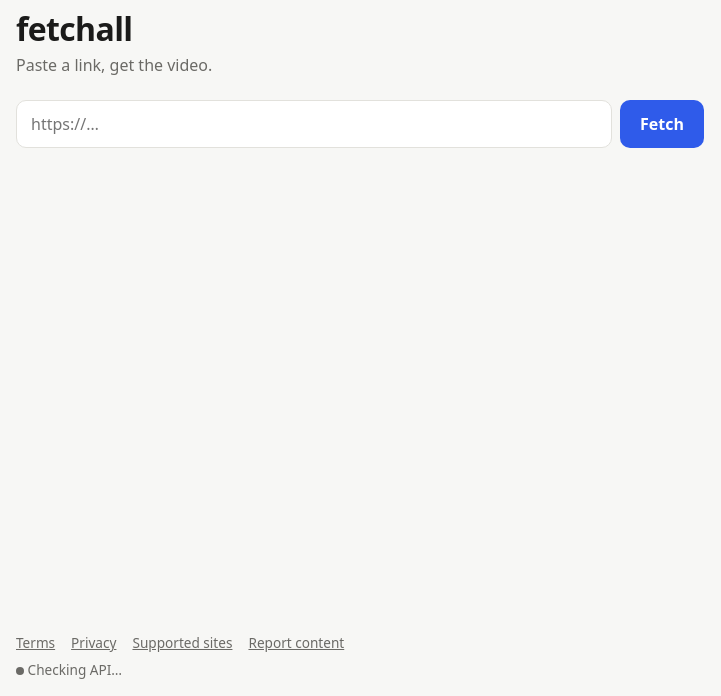
Scenario: explains a 429 refusal
Type "https://video.example/watch/1" into the field named "Video link" at (314, 124), box [16,100,612,148]
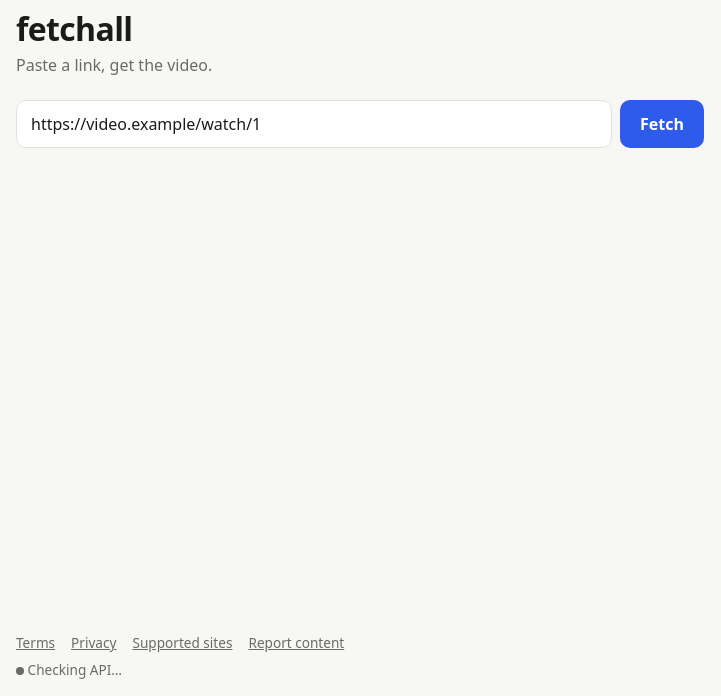
Click the button "Fetch" at (662, 124), box [620,100,704,148]
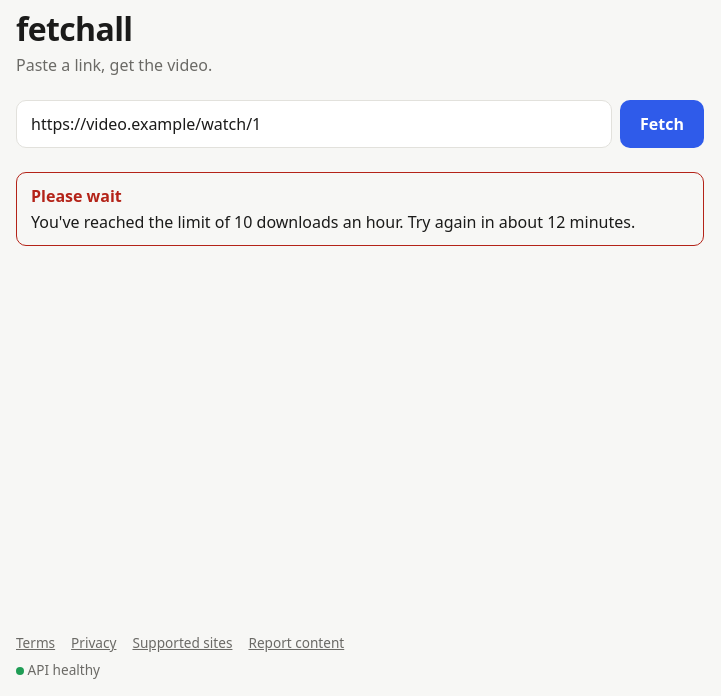
Expected: the message shows "Please wait", [31,185,122,207]
Expected: the message shows "You've reached the limit of 10 downloads an hour. Try again in about 12 minutes.", [31,211,635,233]
